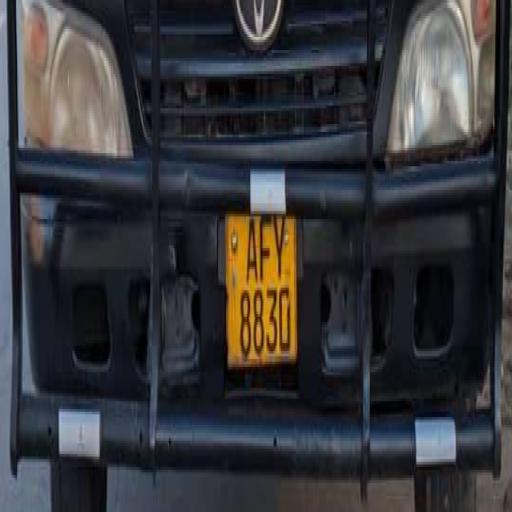number-plates: (226, 212, 294, 364)
